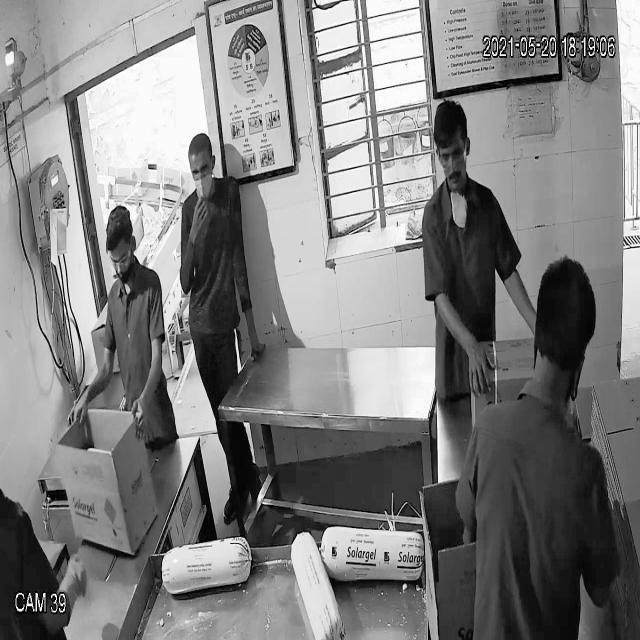glasses: (435, 148, 468, 174), (106, 244, 132, 268)
no-glass: (189, 159, 215, 179)
